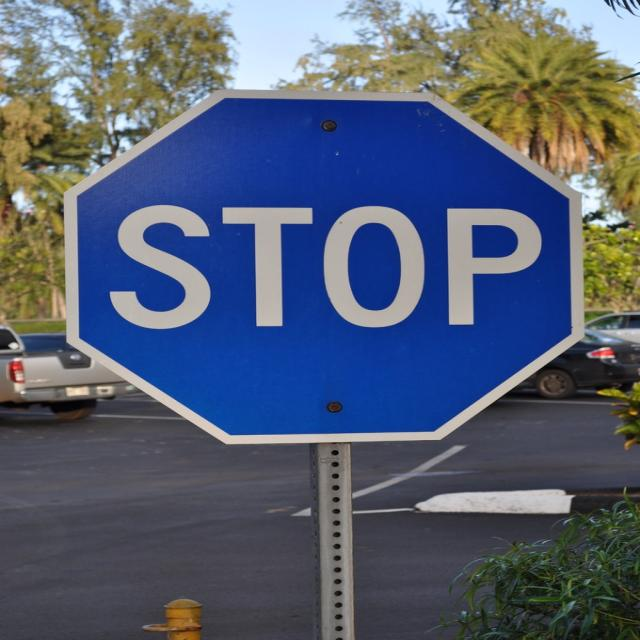Stop-sign: (61, 88, 586, 443)
